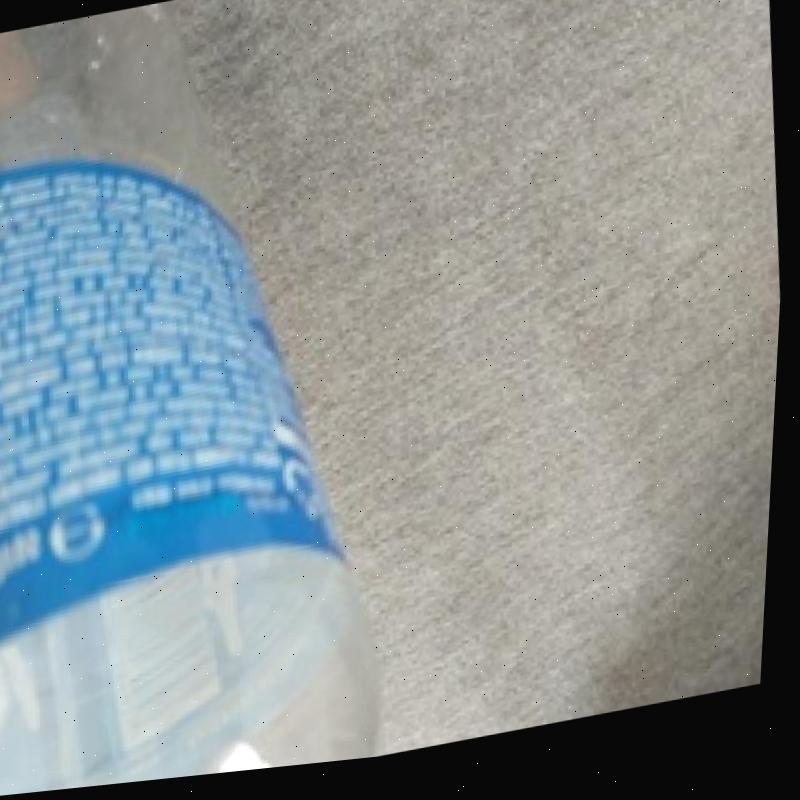botella: (0, 0, 430, 800)
